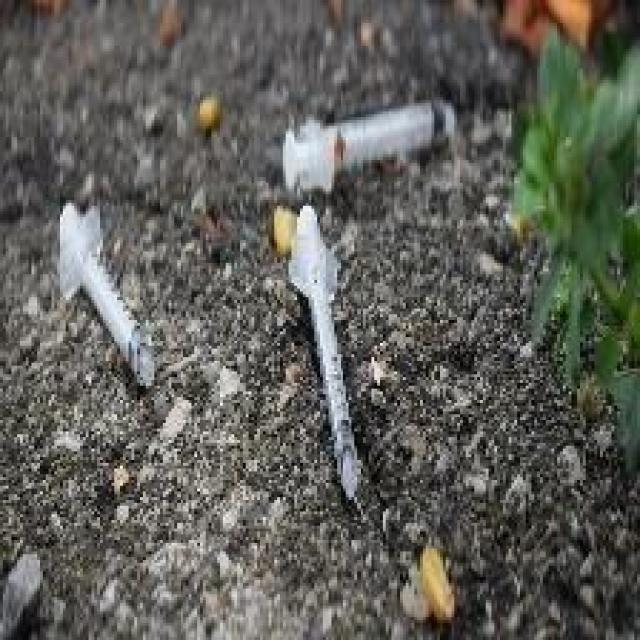syringe: (273, 216, 390, 504), (263, 50, 471, 188), (44, 184, 167, 413)
